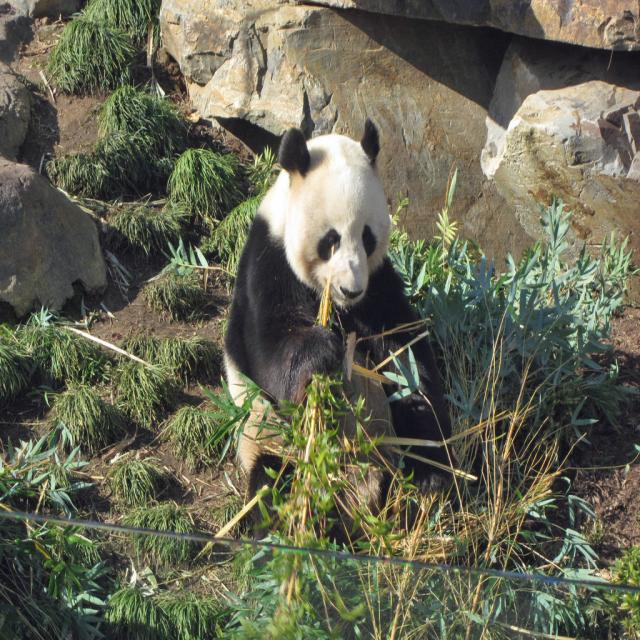panda: (223, 129, 452, 536)
